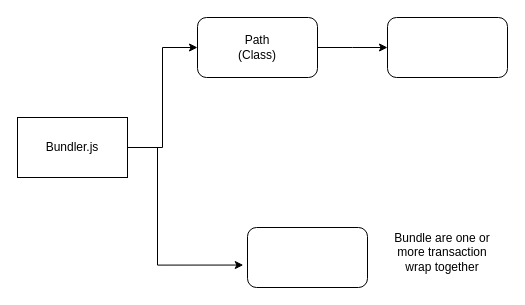
This 525x305 diagram has some shape labels left out. The centre of each missing label's shape, as x and y in pixels:
"Bundler (Class)" belongs at [307,257].
"Returns router; tokenIn ; tokenOut" belongs at [447,47].
